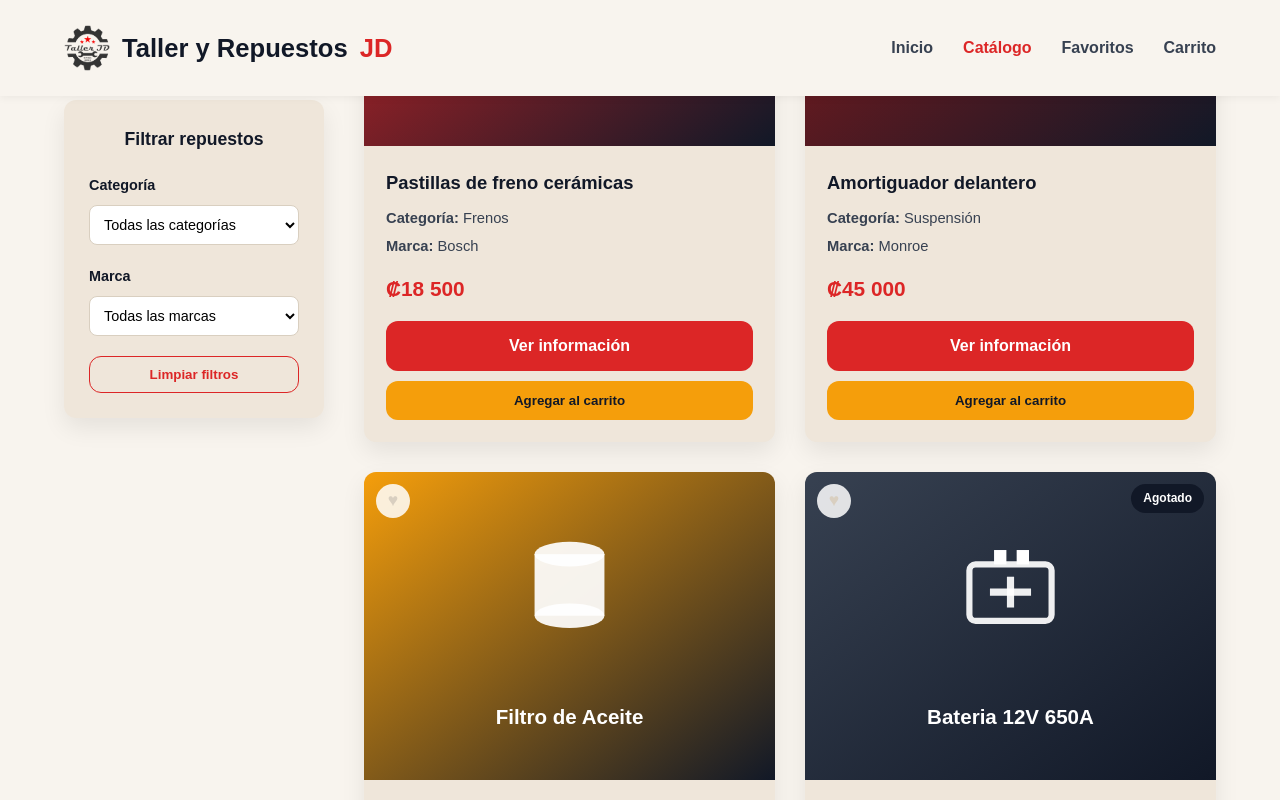
Test: Carrito y consumo de la API de tipo de cambio › muestra el subtotal en dólares calculado con el tipo de cambio de la API
(page scrolled)
Click the button "Agregar al carrito" below "18 500". click: (570, 400)
box: 386,381 -> 753,420
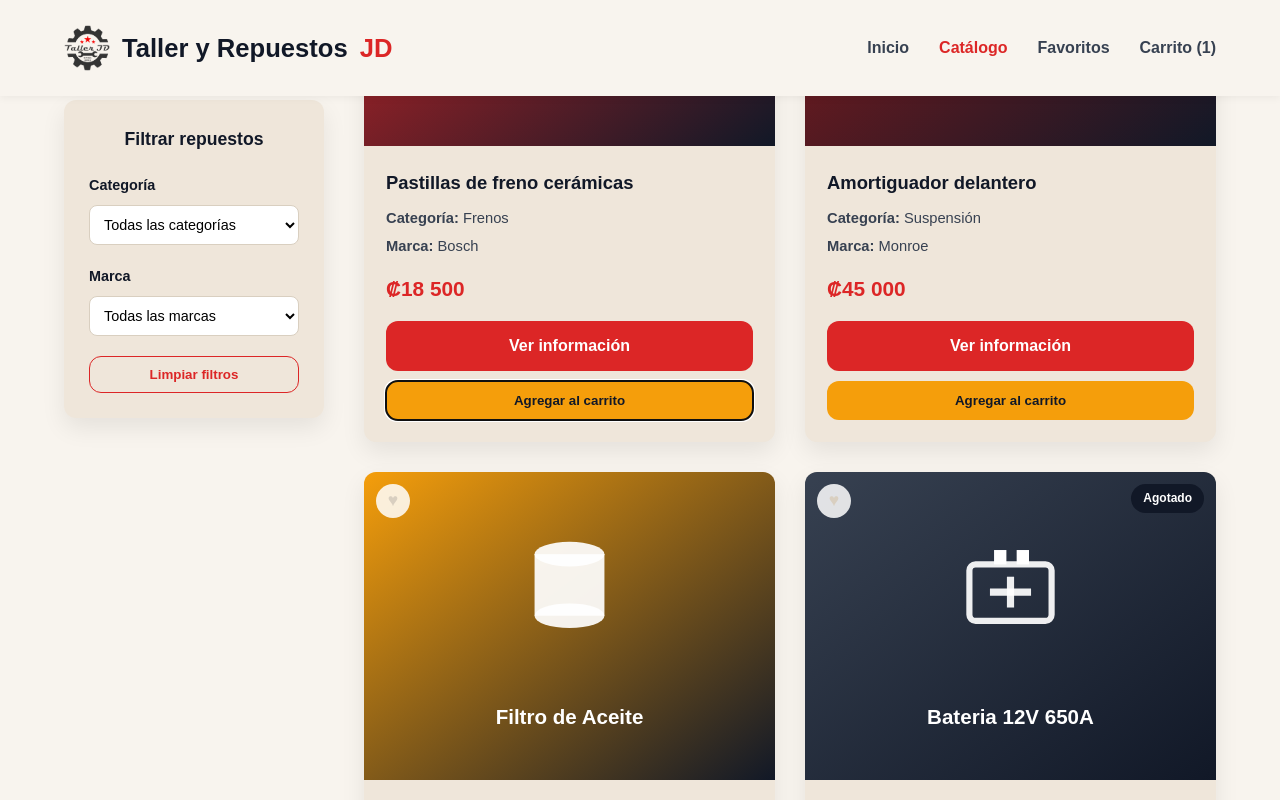
Click the link "Carrito (1)". click: (1166, 48)
box: 1140,39 -> 1216,56
(page scrolled)
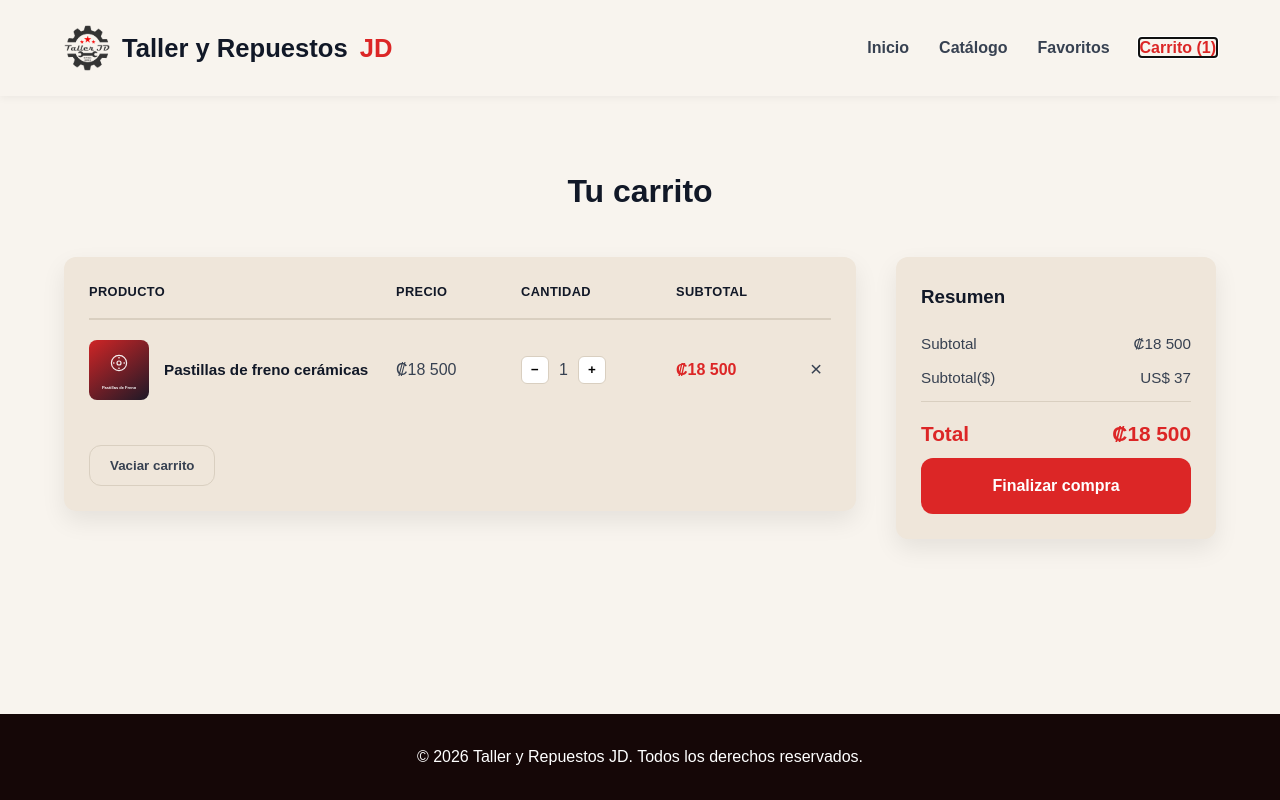
Expected: the text "US$ 37" is shown, 1140,366 -> 1191,391
Expected: the text "Subtotal($)" is shown, 921,366 -> 995,391
